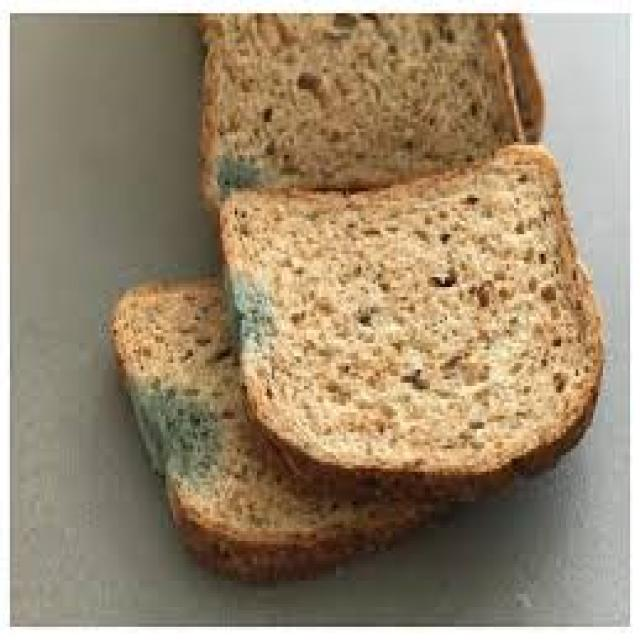food_waste: (111, 13, 600, 574)
